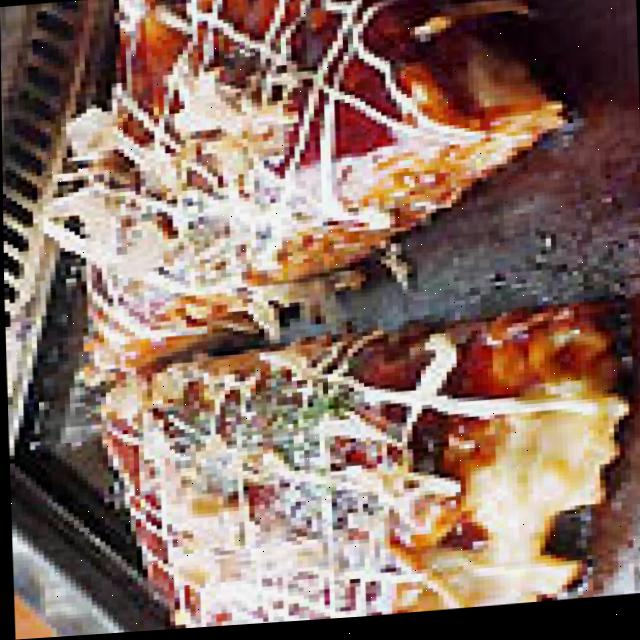蛋糕甜品: (72, 0, 616, 636)
